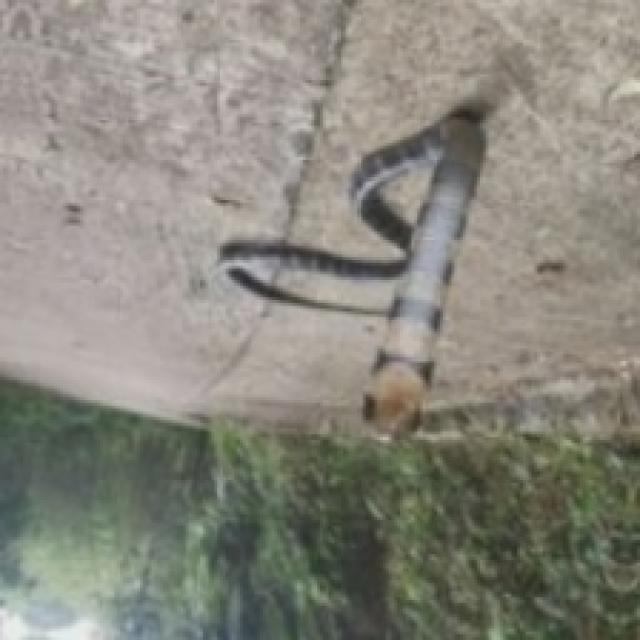king cobra: (220, 94, 491, 434)
